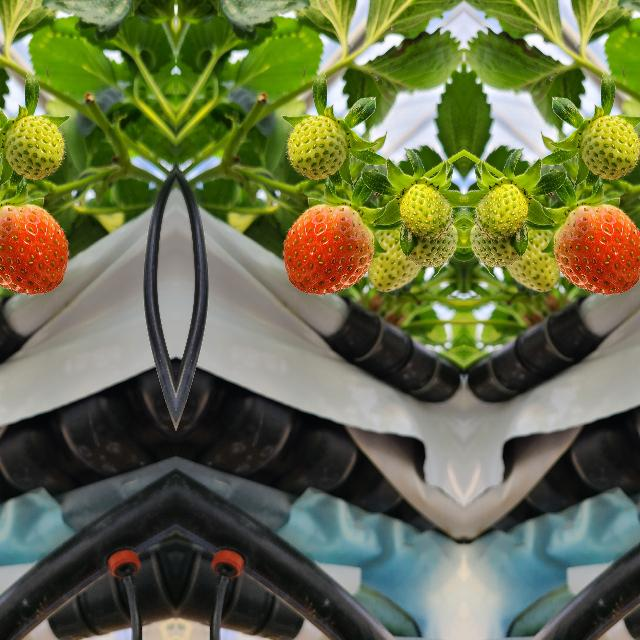Health_100: (282, 204, 373, 294), (552, 204, 640, 294), (0, 204, 67, 294)
Health_25: (285, 111, 347, 180), (3, 111, 65, 180), (579, 111, 640, 180), (504, 225, 556, 292), (371, 225, 422, 292), (396, 178, 452, 232), (474, 178, 530, 232), (399, 222, 458, 266), (468, 222, 526, 266)
